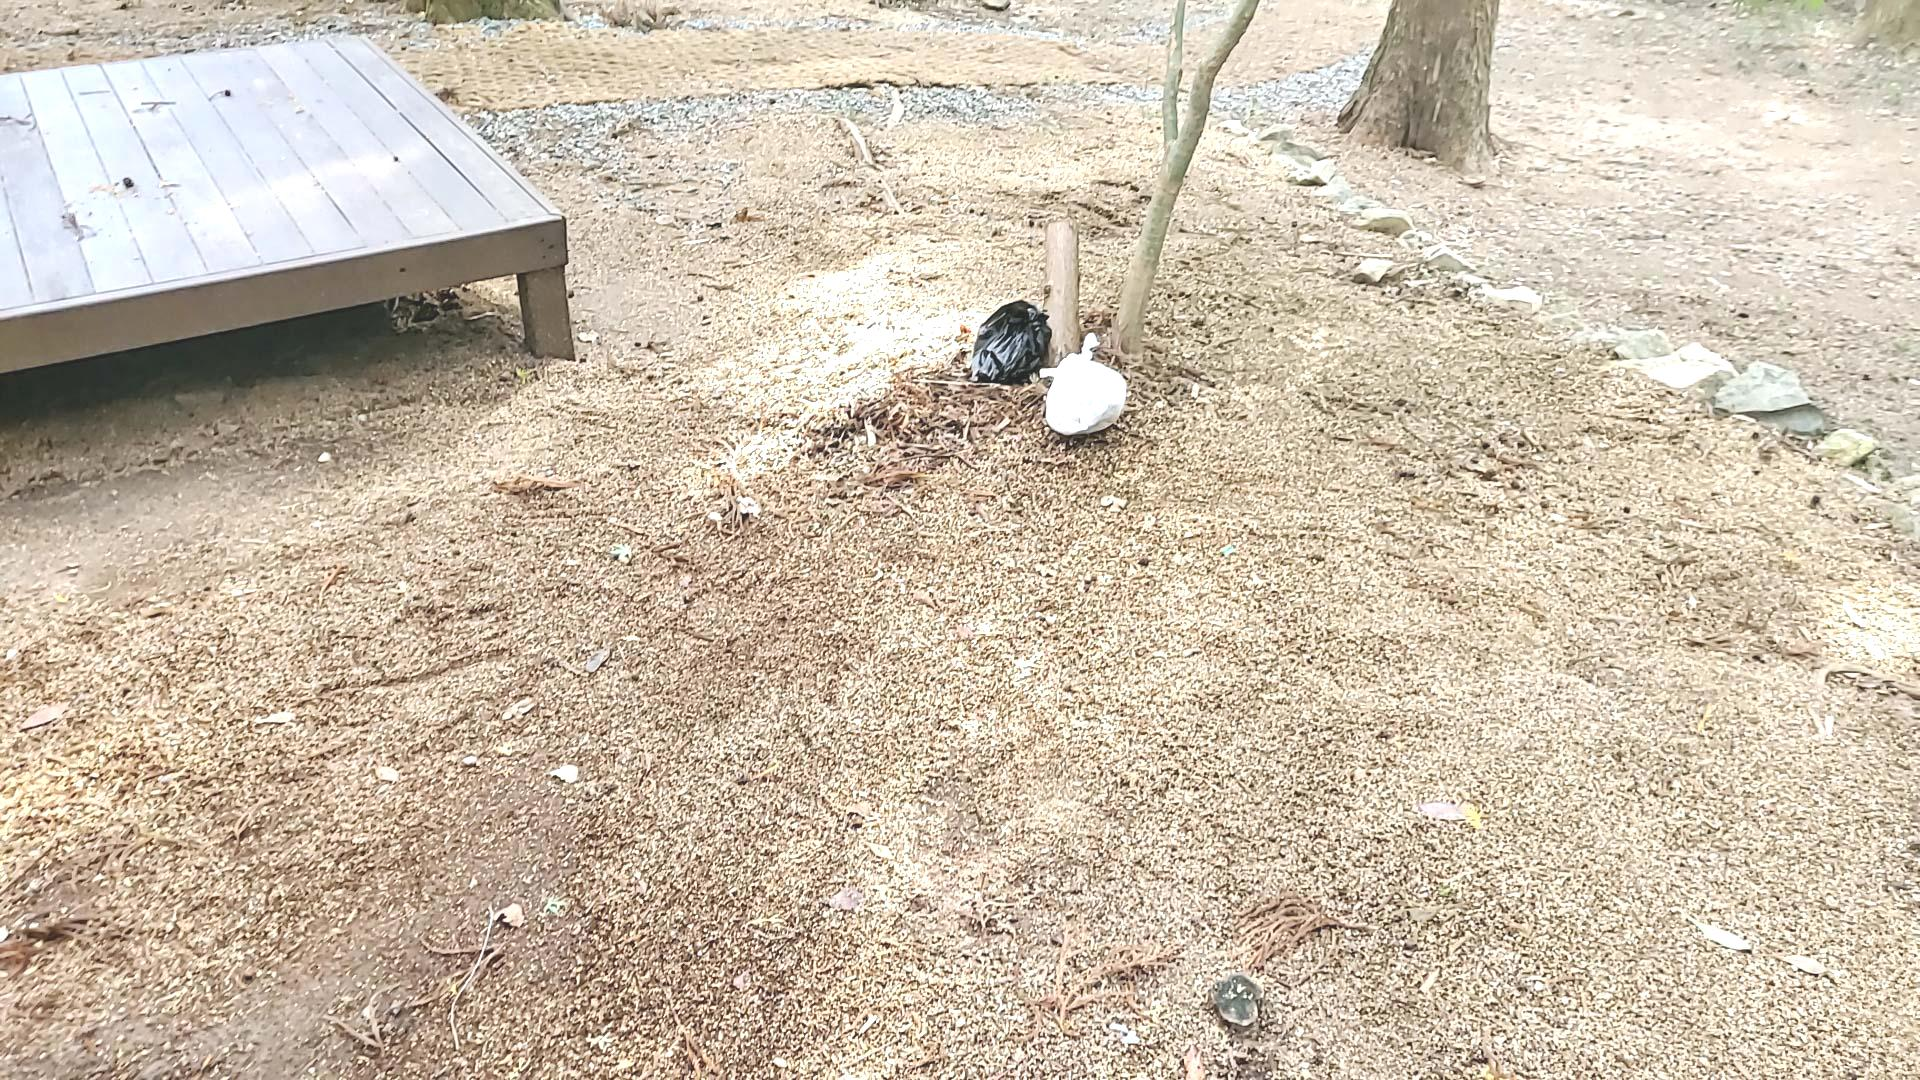black_bag: (961, 295, 1055, 386)
white_bag: (1034, 328, 1129, 439)
